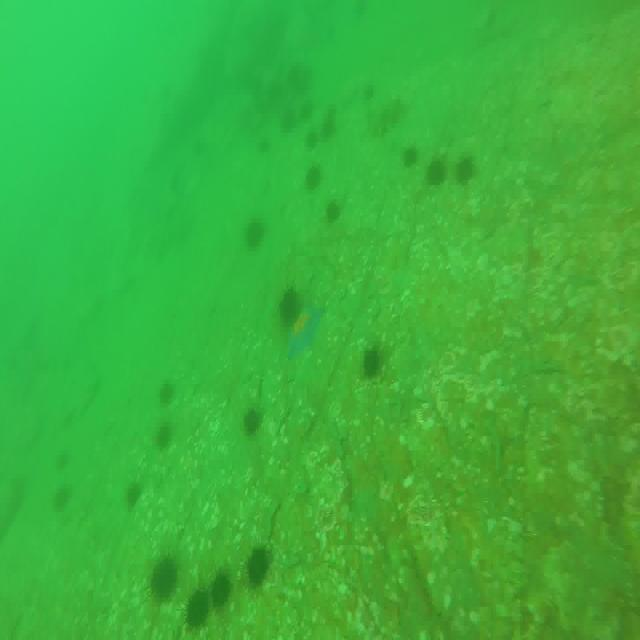echinus: (148, 554, 177, 602), (423, 152, 448, 192), (246, 546, 269, 586), (186, 590, 210, 628), (279, 288, 302, 326), (211, 572, 232, 610), (399, 143, 422, 170), (456, 156, 478, 184), (244, 216, 262, 250), (362, 346, 382, 376), (156, 422, 176, 449), (244, 408, 262, 438), (161, 378, 177, 411), (52, 482, 68, 514), (325, 195, 342, 225), (304, 166, 324, 190), (125, 481, 141, 510), (318, 114, 336, 138), (359, 80, 376, 104), (304, 130, 321, 150)
holothurian: (369, 97, 406, 137)
starfish: (286, 294, 325, 366)
